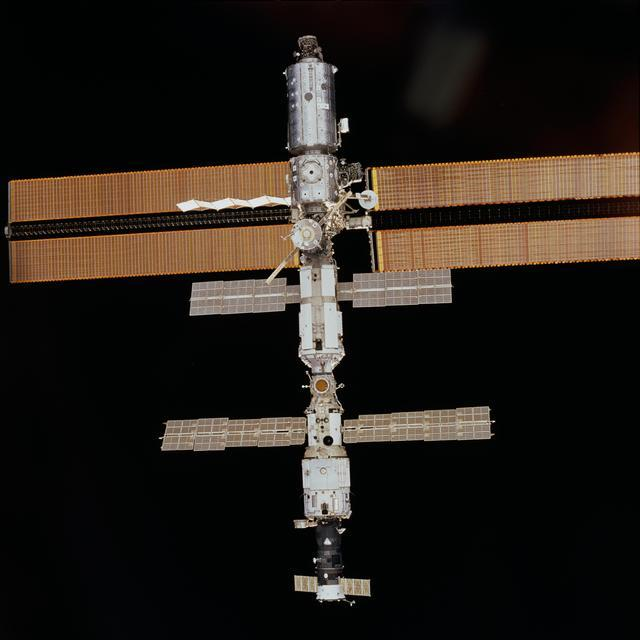medium_debris: (6, 36, 640, 601)
